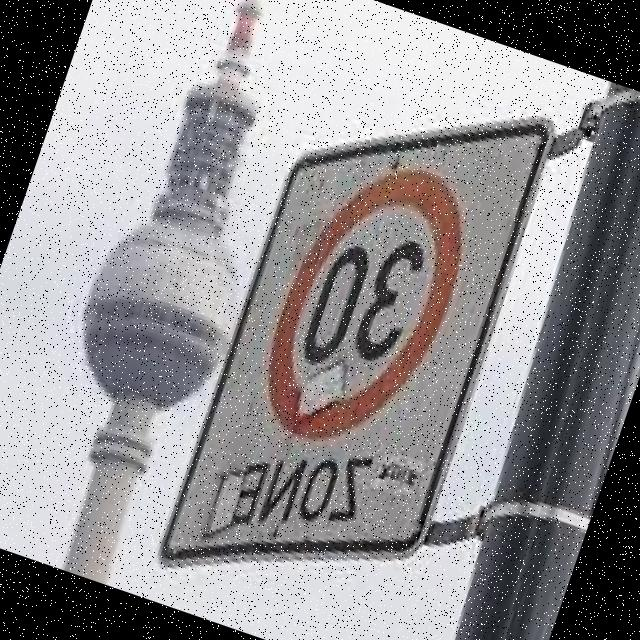speed_limit_30: (218, 110, 511, 483)
